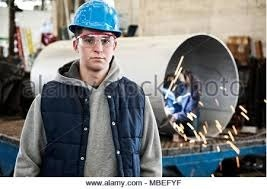helmet: (67, 1, 123, 34)
person with partial safety: (33, 1, 153, 178)
